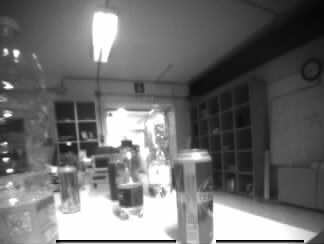Bottle: (1, 18, 53, 242), (113, 140, 143, 216), (145, 104, 169, 196)
Tin can: (175, 149, 212, 244), (58, 167, 80, 211)
